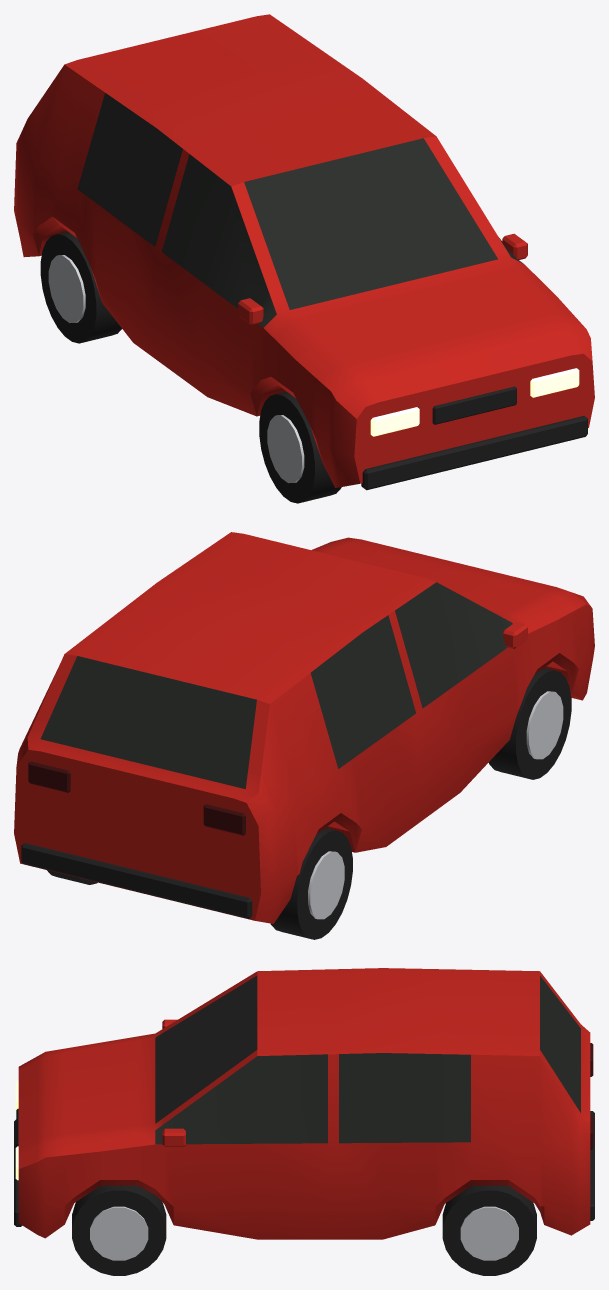
The model's file is auto_b.glb.
3 views of the same model, one above another, from view 1: azimuth 30°, elevation 25°; view 2: azimuth 150°, elevation 25°; view 3: azimuth 270°, elevation 25° (orthographic). The views are drawn at different scales.
Parts seen in each view (by area): view 1: pieza_carroceria, auto_b_detalles, pieza_rueda_2, pieza_rueda_4, pieza_faros; view 2: pieza_carroceria, auto_b_detalles, pieza_rueda_2, pieza_rueda_4, pieza_luces_traseras; view 3: pieza_carroceria, auto_b_detalles, pieza_rueda_1, pieza_rueda_3.
Boxes of the visible parts, x1,y1,x2,y2 form: pieza_carroceria: [14, 14, 594, 487]; auto_b_detalles: [77, 93, 587, 490]; pieza_rueda_2: [259, 391, 341, 503]; pieza_rueda_4: [40, 231, 121, 343]; pieza_faros: [370, 368, 579, 436]; pieza_carroceria: [14, 532, 594, 923]; auto_b_detalles: [21, 582, 512, 918]; pieza_rueda_2: [488, 668, 571, 779]; pieza_rueda_4: [270, 828, 352, 939]; pieza_luces_traseras: [28, 761, 245, 835]; pieza_carroceria: [18, 968, 590, 1239]; auto_b_detalles: [14, 975, 594, 1226]; pieza_rueda_1: [72, 1185, 166, 1275]; pieza_rueda_3: [442, 1185, 536, 1275].
Size of the model in its own units: 1.74 by 1.5 by 3.7.
